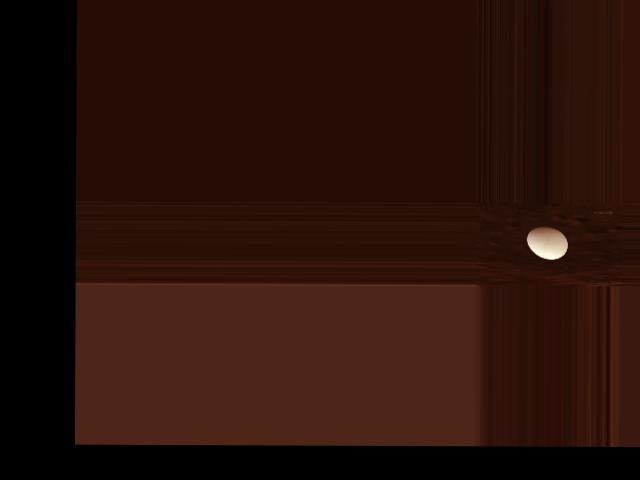egg: (526, 226, 567, 259)
